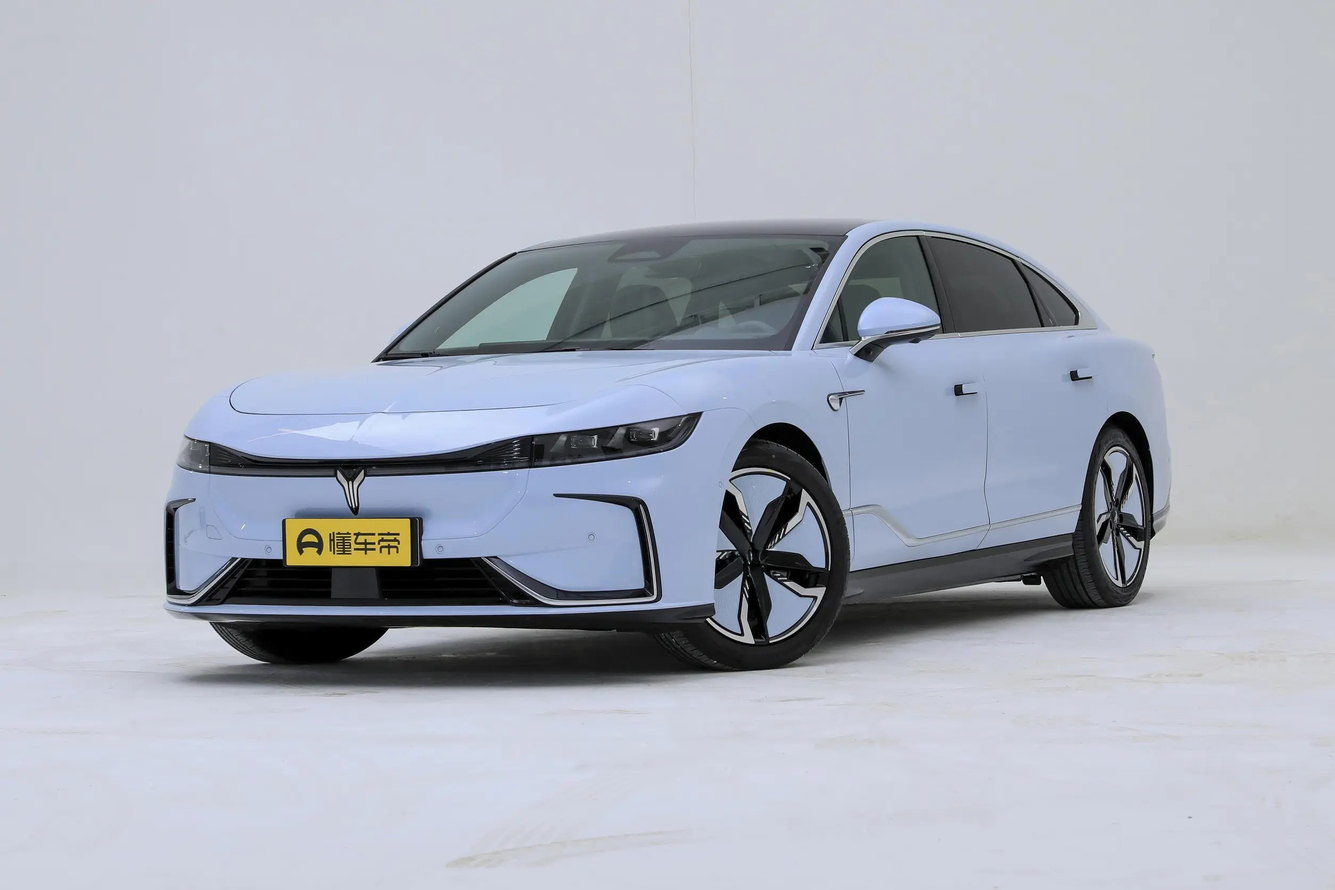VOYAH: (337, 469, 364, 512)
